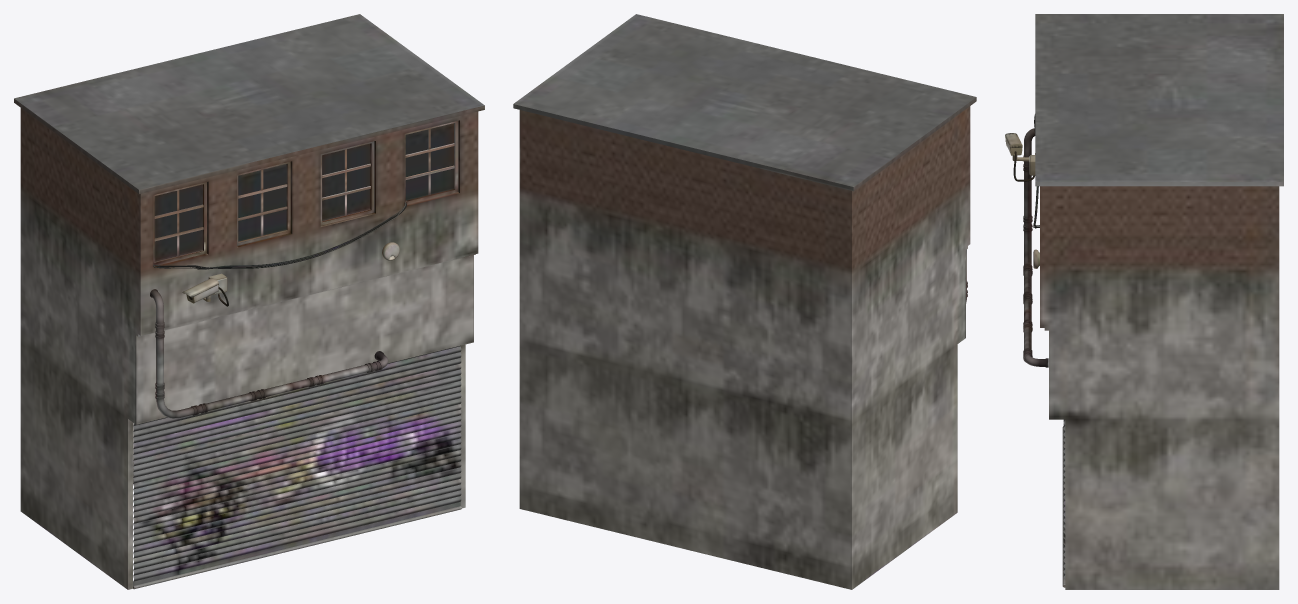
File: urban.glb
The picture shows the model from 3 angles, left to right: view 1: azimuth 30°, elevation 25°; view 2: azimuth 150°, elevation 25°; view 3: azimuth 270°, elevation 25°; orthographic projection.
Parts seen in each view (by area): view 1: Cube.028, Cube.070; view 2: Cube.028; view 3: Cube.028, Cube.070.
Part boxes in pixels (x1,y1,x2,y2): Cube.028: (14, 14, 484, 589); Cube.070: (182, 273, 228, 306); Cube.028: (513, 14, 976, 589); Cube.028: (1023, 14, 1283, 589); Cube.070: (1005, 133, 1035, 181).
Size of the model in its own units: 8.34 by 9.5 by 5.86.
Materials: 2 (2 with a texture image).
